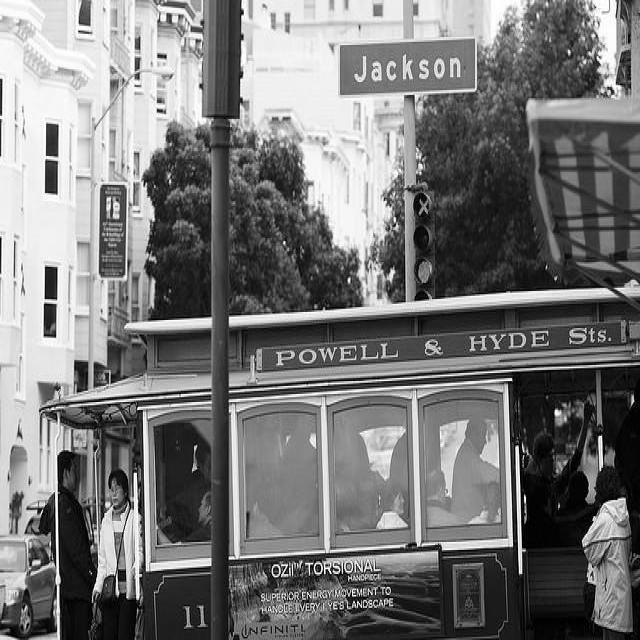vehicle: (39, 280, 639, 631), (1, 539, 59, 631)
